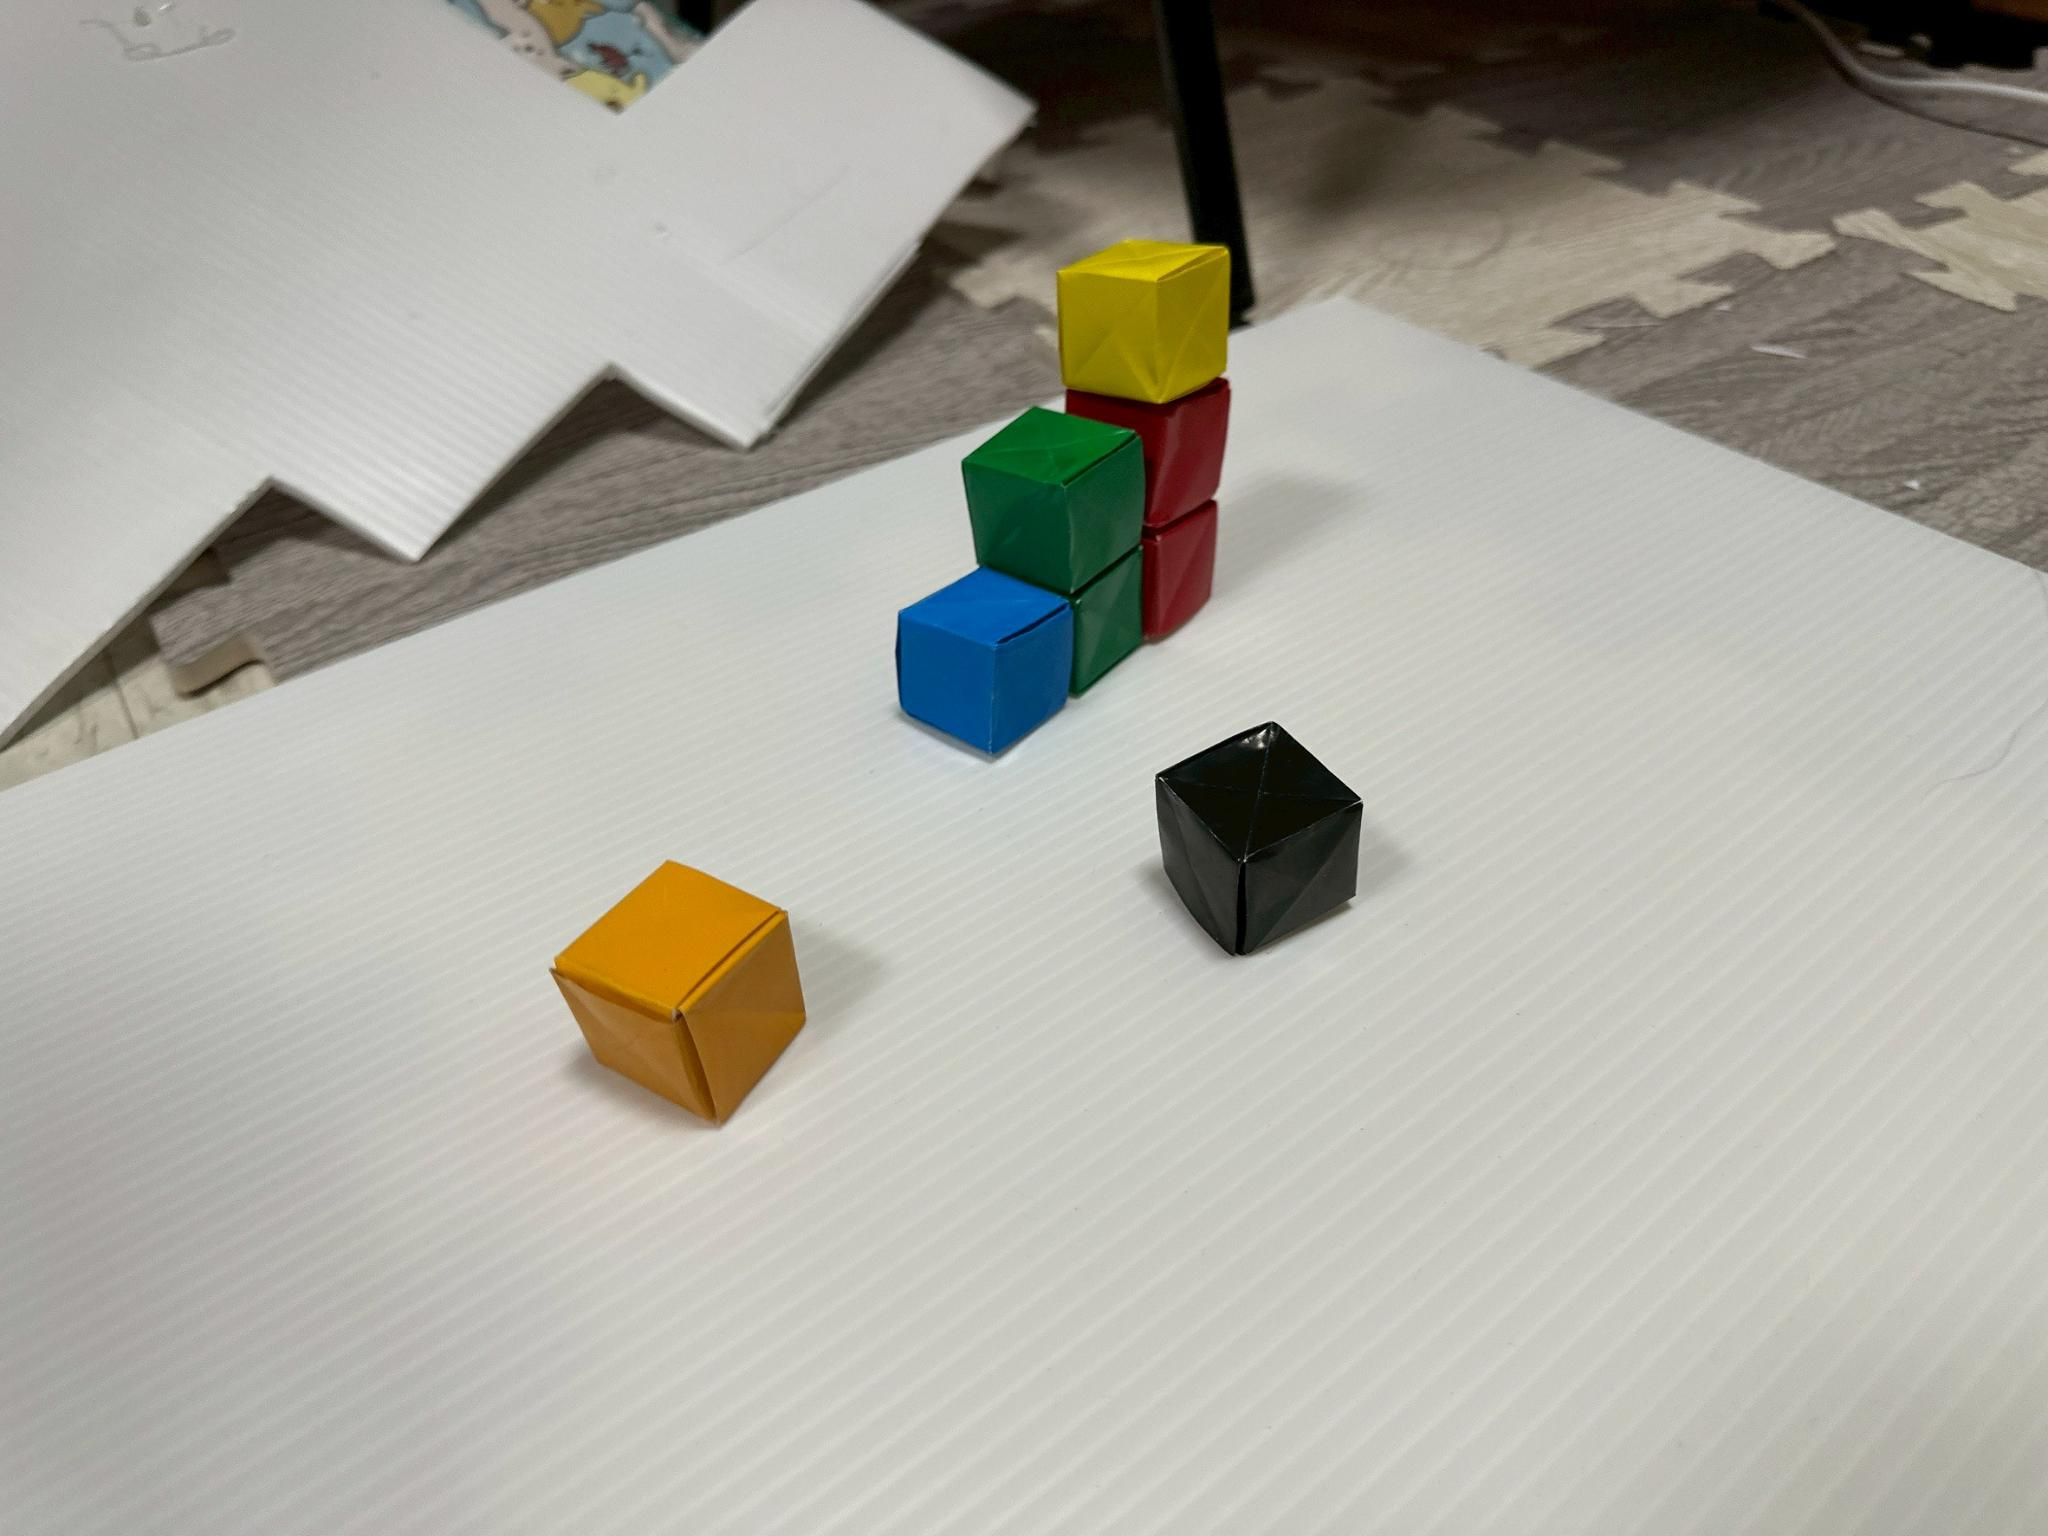base: (553, 862, 805, 1121), (1156, 723, 1361, 954), (963, 408, 1143, 594), (898, 568, 1072, 755), (1058, 240, 1230, 403), (1064, 378, 1230, 526), (1069, 544, 1142, 695), (1142, 500, 1218, 641)
